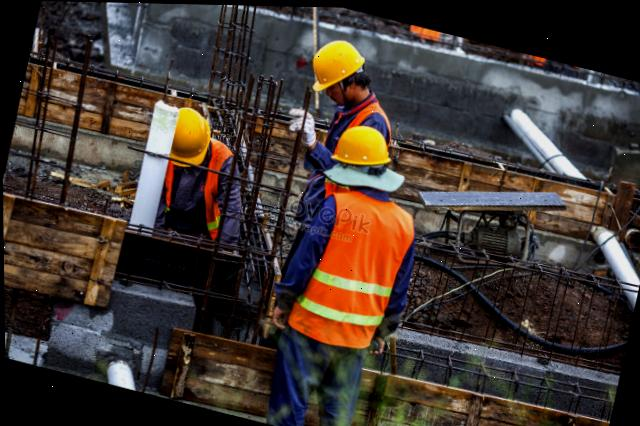helmet: (300, 32, 369, 98), (157, 98, 216, 169), (321, 118, 395, 173)
vest: (297, 190, 408, 354), (145, 126, 235, 240)
